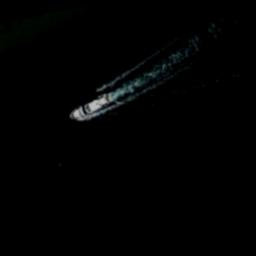boat: (65, 89, 113, 123)
